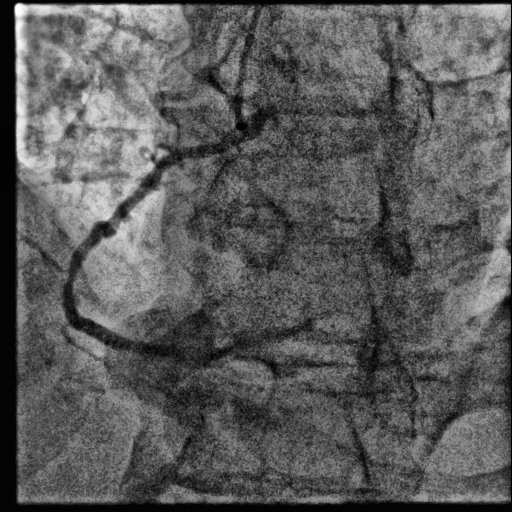pborca: (219, 320, 314, 353)
pda: (210, 354, 279, 382)
rca: (63, 109, 265, 364)
